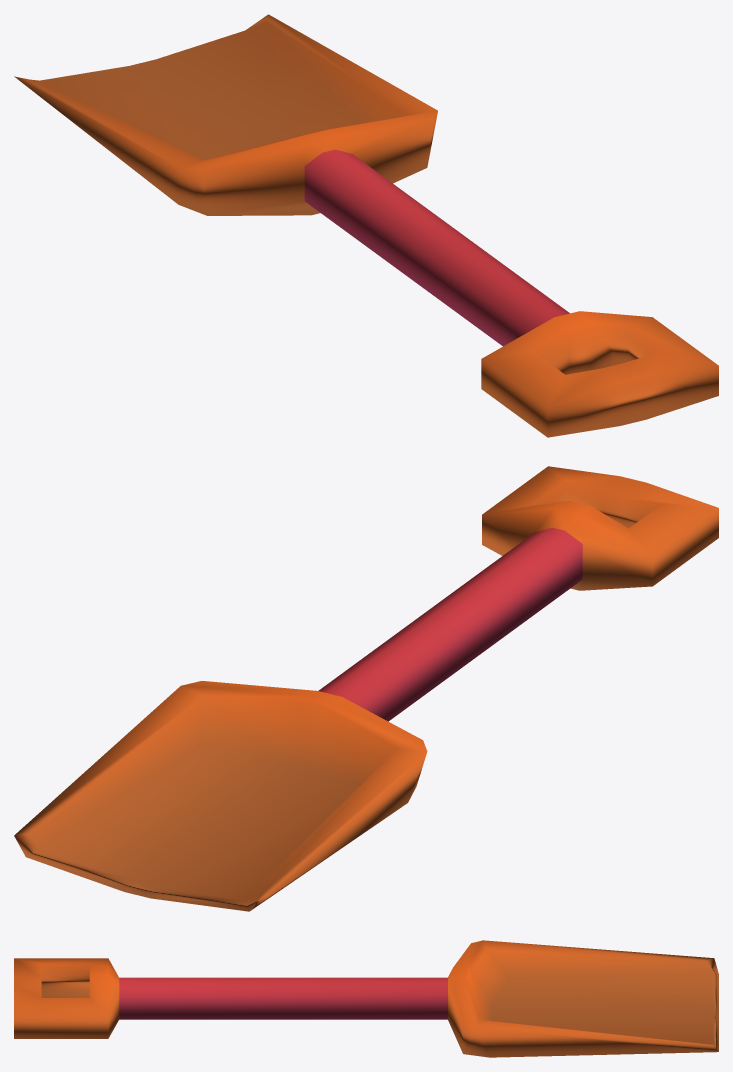
File: shovel.fbx
3 renders of one model, top to bottom at view 1: azimuth 30°, elevation 25°; view 2: azimuth 150°, elevation 25°; view 3: azimuth 270°, elevation 25°, orthographic. The views are drawn at different scales.
Visible parts, largest first — view 1: Shovel; view 2: Shovel; view 3: Shovel.
Boxes of the visible parts, x1,y1,x2,y2 form: Shovel: [14, 14, 718, 437]; Shovel: [14, 466, 718, 911]; Shovel: [14, 940, 718, 1057].
Bounding box in the file's own units: 423 × 121 × 1421.
